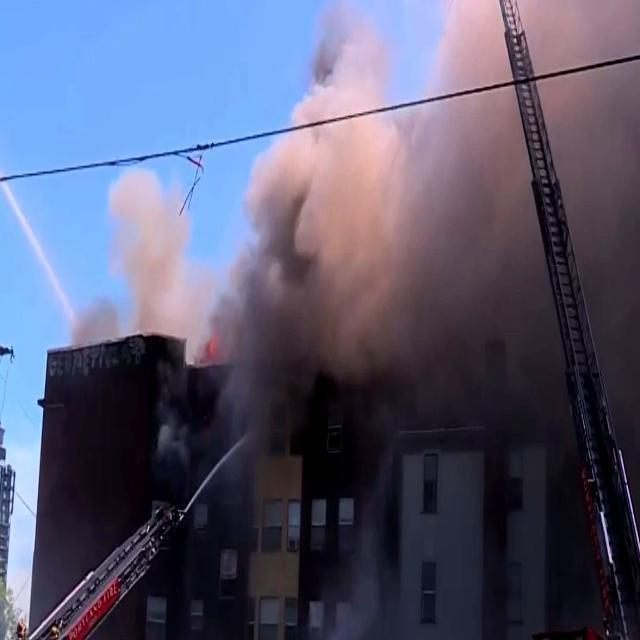Fire: (200, 331, 224, 362)
Smoke: (194, 2, 640, 435), (67, 168, 192, 348)
